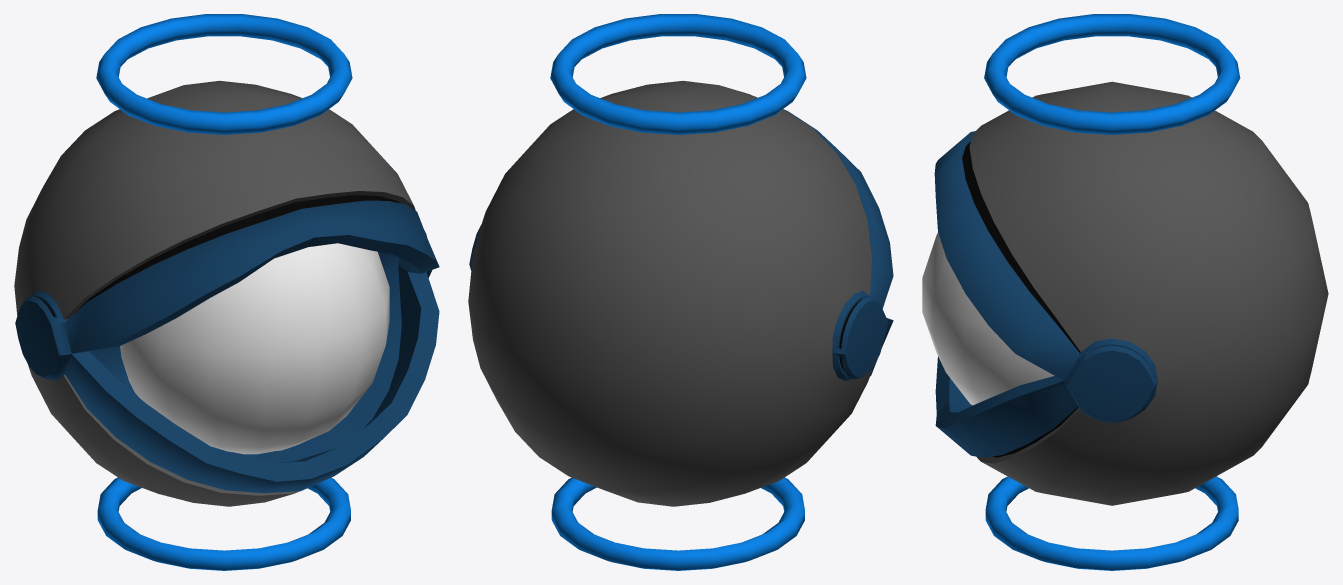
The model's file is Light_Box_02.fbx.
The picture shows the model from 3 angles, left to right: view 1: azimuth 30°, elevation 25°; view 2: azimuth 150°, elevation 25°; view 3: azimuth 270°, elevation 25°; orthographic projection.
Visible parts, largest first — view 1: Lightbox_Sphere_Sphere.003, Lightbulb_Sphere.001_Sphere.004, Ring02_Torus.002, Ring01_Torus.001_Torus.003; view 2: Lightbox_Sphere_Sphere.003, Ring02_Torus.002, Ring01_Torus.001_Torus.003; view 3: Lightbox_Sphere_Sphere.003, Ring02_Torus.002, Lightbulb_Sphere.001_Sphere.004, Ring01_Torus.001_Torus.003.
Part boxes in pixels (left/top/right/bottom): Lightbox_Sphere_Sphere.003: left=14, top=80, right=439, bottom=506; Lightbulb_Sphere.001_Sphere.004: left=120, top=243, right=389, bottom=454; Ring02_Torus.002: left=96, top=14, right=352, bottom=134; Ring01_Torus.001_Torus.003: left=97, top=477, right=350, bottom=570; Lightbox_Sphere_Sphere.003: left=468, top=80, right=893, bottom=506; Ring02_Torus.002: left=550, top=14, right=806, bottom=134; Ring01_Torus.001_Torus.003: left=551, top=477, right=804, bottom=570; Lightbox_Sphere_Sphere.003: left=934, top=81, right=1328, bottom=505; Ring02_Torus.002: left=984, top=14, right=1240, bottom=134; Lightbulb_Sphere.001_Sphere.004: left=922, top=232, right=1054, bottom=405; Ring01_Torus.001_Torus.003: left=985, top=476, right=1238, bottom=570.
Bounding box in the file's own units: 204 × 233 × 188.
